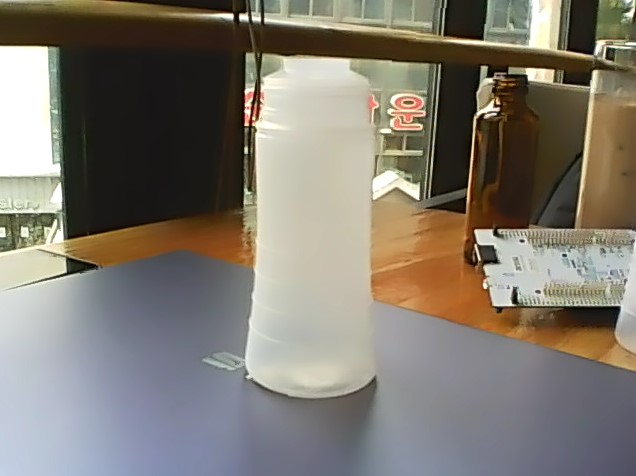Plastic: (235, 51, 383, 402)
